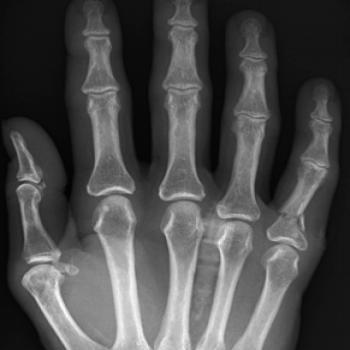Fracture: (274, 199, 310, 232)
